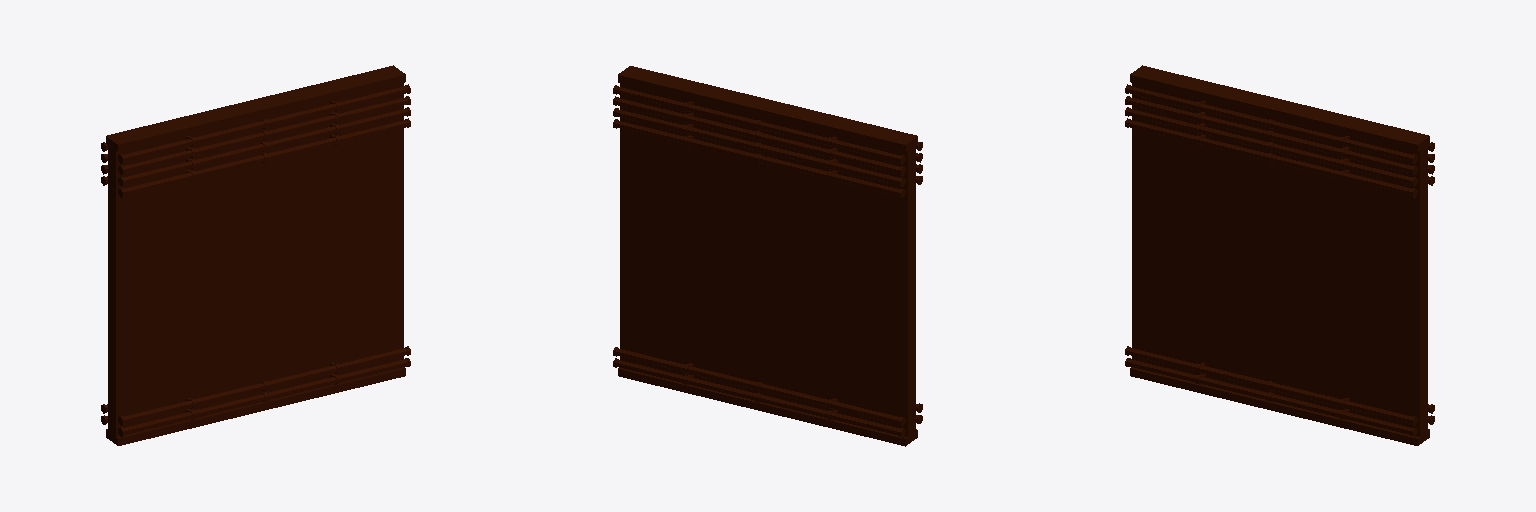
File: 8x8_wall_pipe.obj
3 renders of one model, left to right at view 1: azimuth 30°, elevation 25°; view 2: azimuth 150°, elevation 25°; view 3: azimuth 330°, elevation 25°, orthographic.
Visible parts, largest first — view 1: wall, pipe; view 2: wall, pipe; view 3: wall, pipe.
Boxes of the visible parts, box(x1,y1,x2,y2) form: wall: box(106, 65, 405, 445); pipe: box(101, 84, 410, 436); wall: box(618, 66, 917, 446); pipe: box(613, 85, 922, 437); wall: box(1130, 65, 1429, 445); pipe: box(1125, 84, 1434, 436).
Size of the model in its own units: 8 by 8 by 1.06.